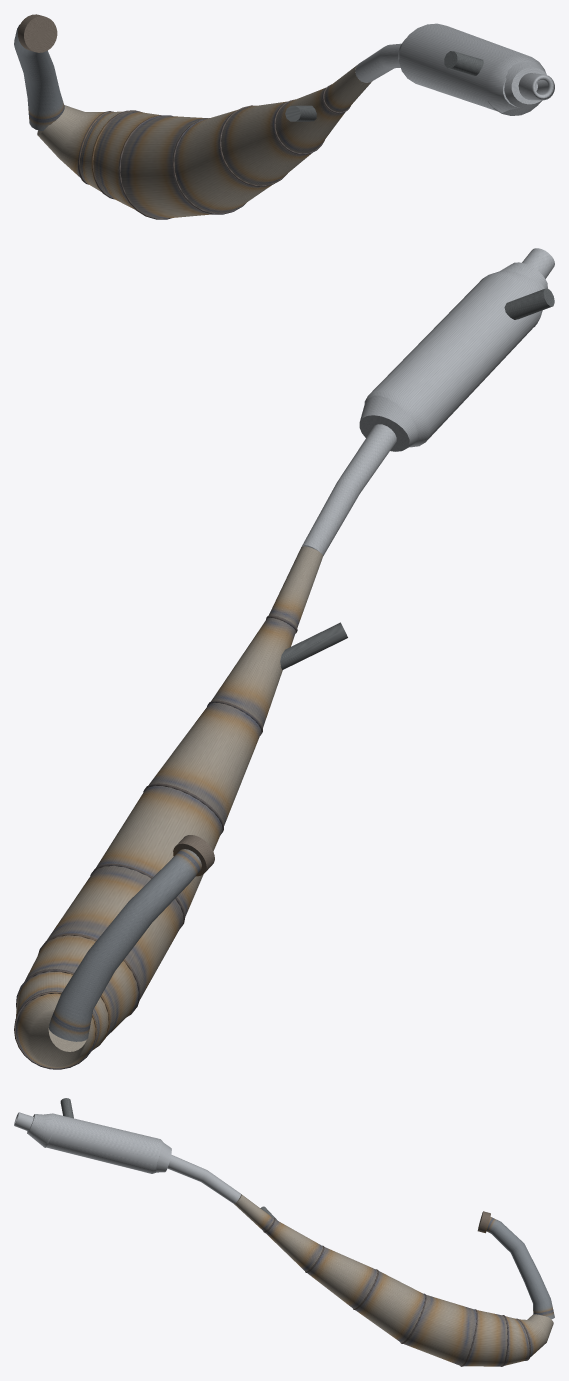
The model's file is SM50-Exhaust.glb.
The picture shows the model from 3 angles, top to bottom: view 1: azimuth 30°, elevation 25°; view 2: azimuth 150°, elevation 25°; view 3: azimuth 270°, elevation 25°; orthographic projection. The views are drawn at different scales.
Parts seen in each view (by area): view 1: Part_exhaust_std; view 2: Part_exhaust_std; view 3: Part_exhaust_std.
Boxes of the visible parts, x1,y1,x2,y2 form: Part_exhaust_std: [14, 14, 554, 219]; Part_exhaust_std: [14, 248, 554, 1069]; Part_exhaust_std: [14, 1098, 554, 1366].
Bounding box in the file's own units: 0.2179 × 0.529 × 1.04.
Materials: 1 (1 with a texture image).
